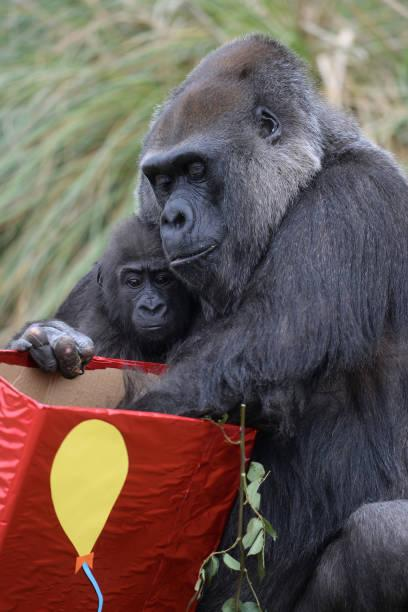gorille_Autres: (38, 0, 408, 383)
